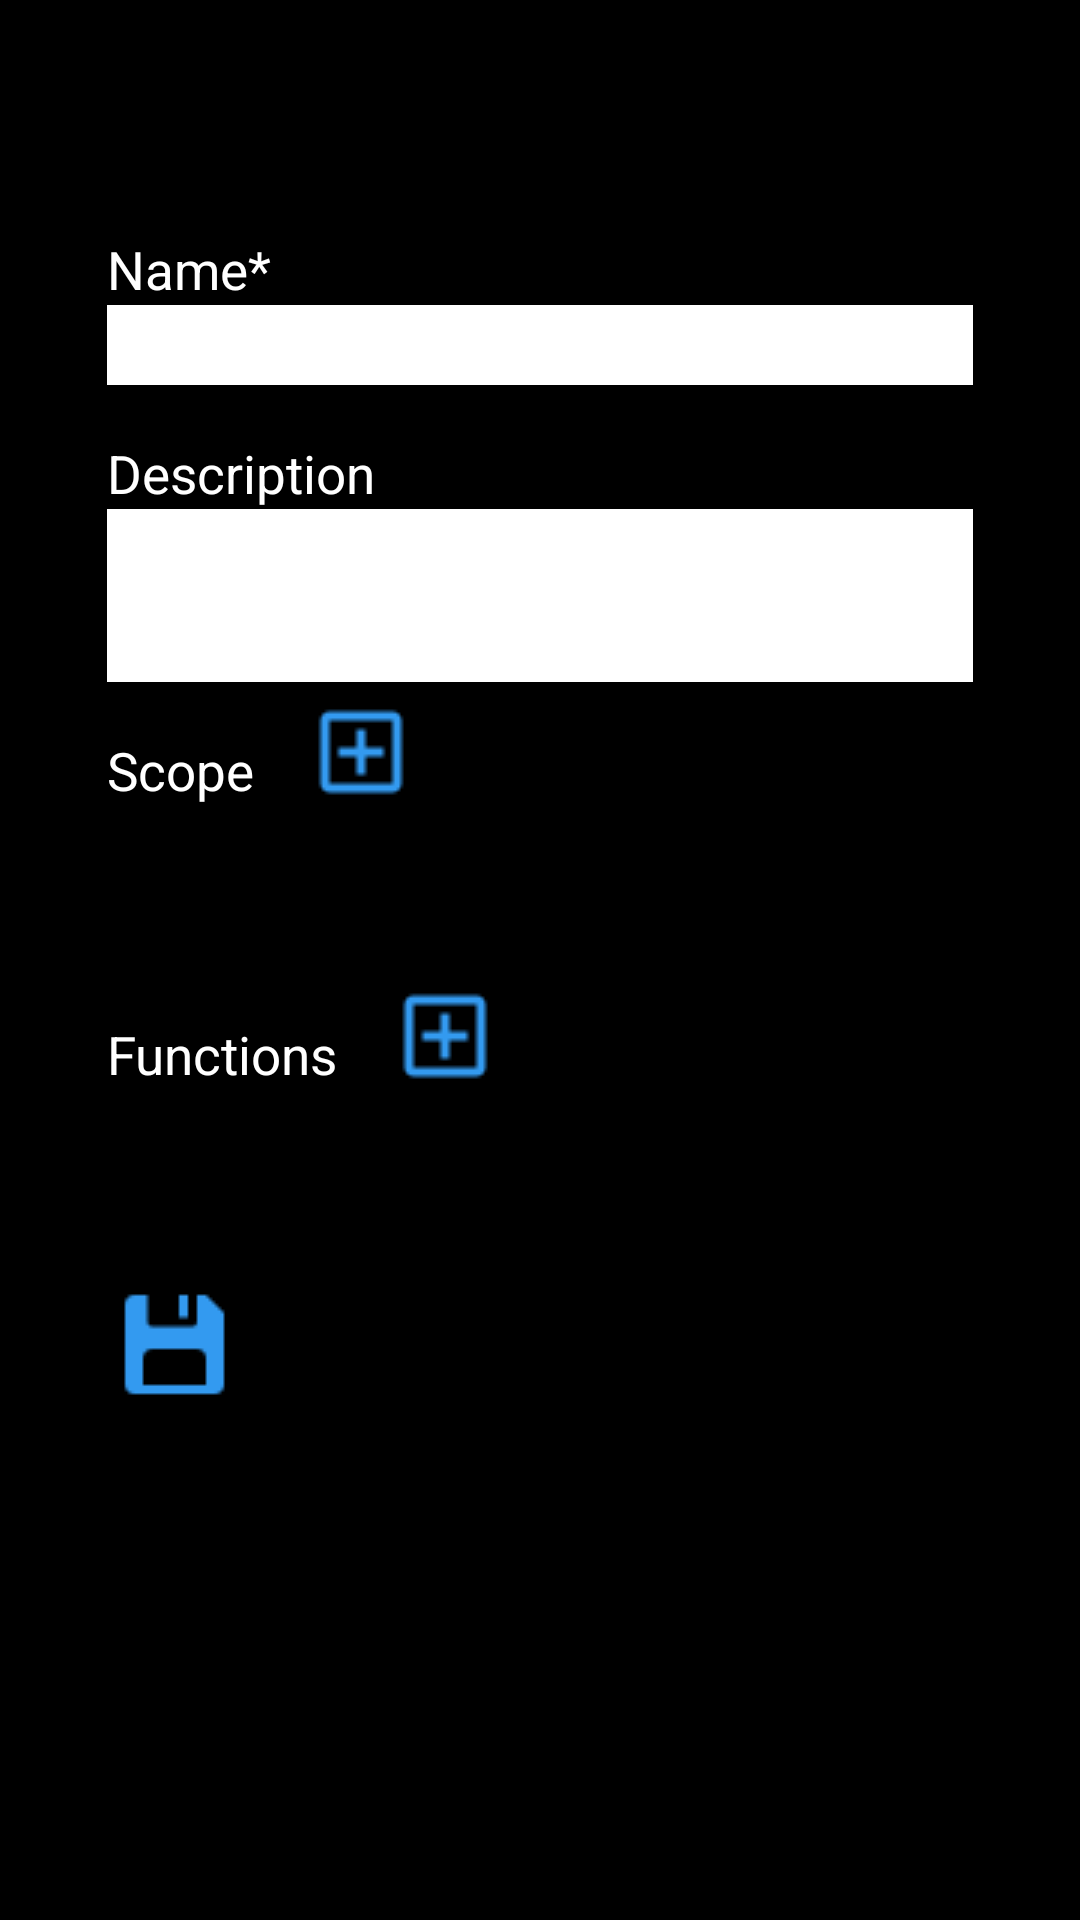

Where to tap for icons on this 1080 x 1920 app screen, as [x,y]:
add: [361,752], [445,1036]
save: [174,1344]
